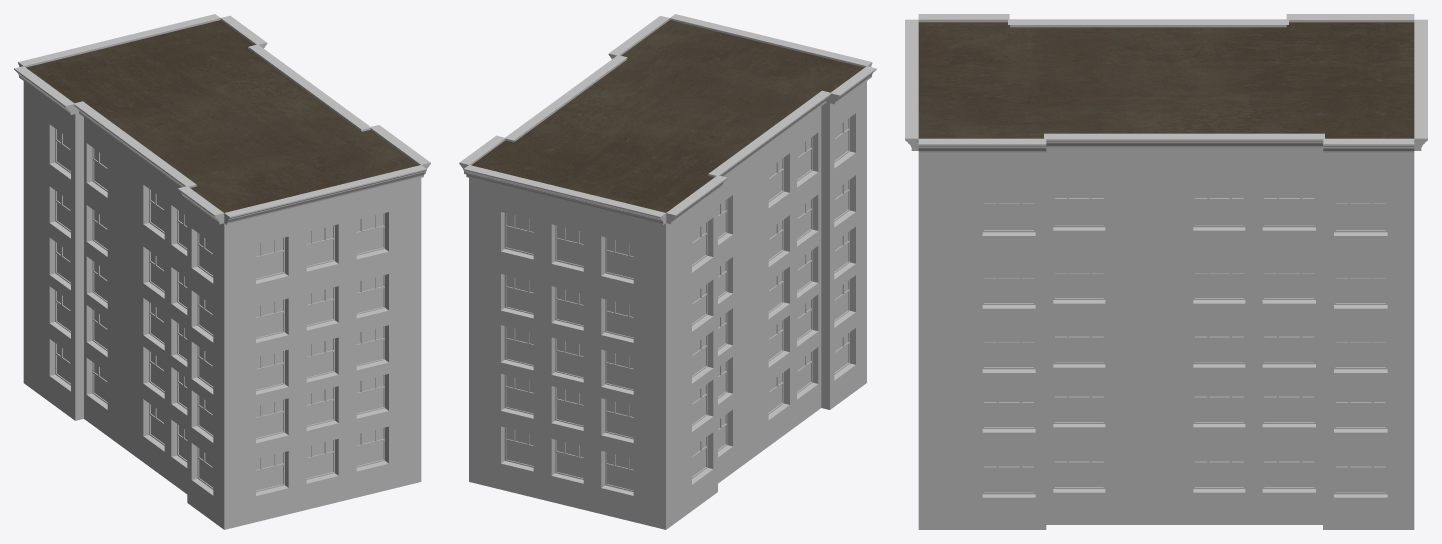
Rendered from Classic_house_Up_sm.FBX.
The picture shows the model from 3 angles, left to right: view 1: azimuth 30°, elevation 25°; view 2: azimuth 150°, elevation 25°; view 3: azimuth 270°, elevation 25°; orthographic projection. The views are drawn at different scales.
Visible parts, largest first — view 1: Classic_house_Up_sm_LOD0; view 2: Classic_house_Up_sm_LOD0; view 3: Classic_house_Up_sm_LOD0.
Part boxes in pixels (x1,y1,x2,y2): Classic_house_Up_sm_LOD0: (14,14,430,529); Classic_house_Up_sm_LOD0: (459,14,876,529); Classic_house_Up_sm_LOD0: (905,14,1427,529).
Size of what is drawn, in the model's own units: 2857 by 4841 by 3999.
